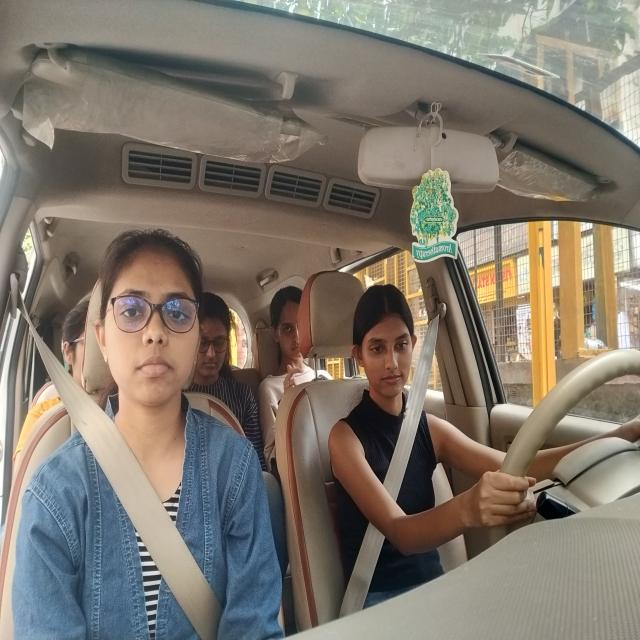person: (97, 231, 202, 401), (357, 294, 415, 402), (207, 292, 242, 397), (272, 283, 308, 364), (64, 297, 87, 388)
